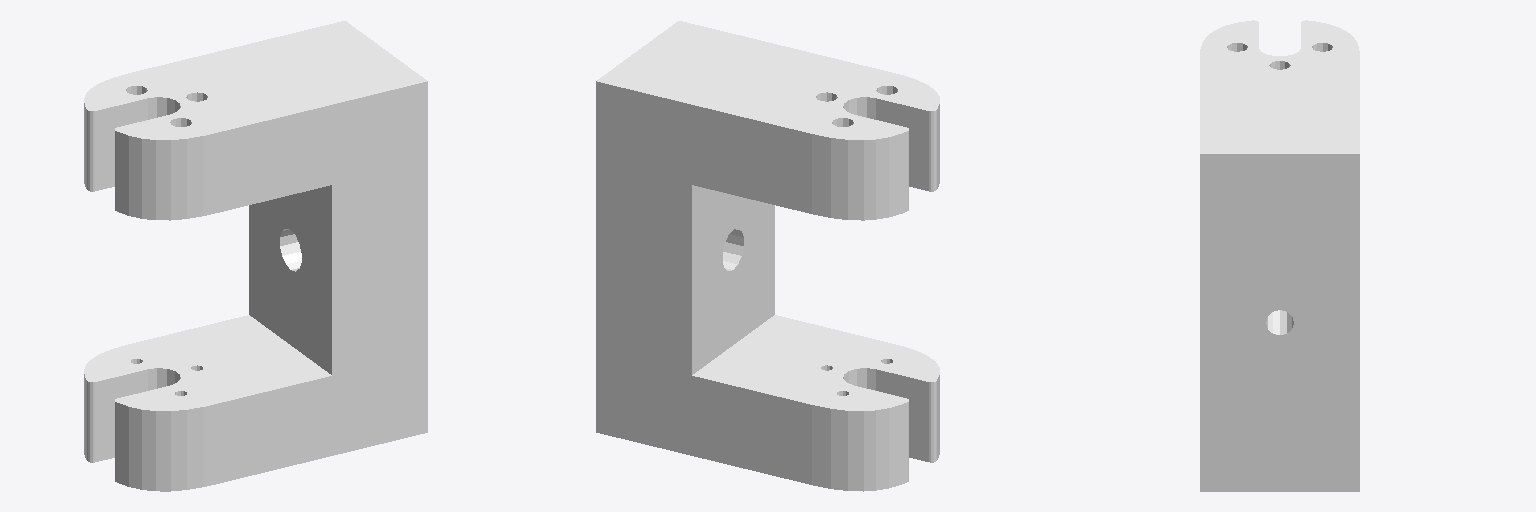
The robot description file, URDF, robot "robot_arm_description":
<?xml version="1.0" encoding="utf-8"?>
<robot name="robot_arm_description">

  <!-- base_link -->
  <link name="base_link">
    <visual>
      <origin xyz="0 0 0" rpy="0 0 0"/>
      <geometry>
        <mesh filename="package://robot_arm_description/meshes/base_link.dae" scale="0.001 0.001 0.001"/>
      </geometry>
    </visual>
  </link>

  <!-- one_Link -->
  <link name="one_Link">
    <visual>
      <origin xyz="0 0 0" rpy="0 0 0"/>
      <geometry>
        <mesh filename="package://robot_arm_description/meshes/one_Link.dae" scale="0.001 0.001 0.001"/>
      </geometry>
    </visual>
  </link>

  <!-- joint1: base_link → one_Link -->
  <joint name="joint1" type="continuous">
    <parent link="base_link"/>
    <child link="one_Link"/>
    <origin xyz="0 0 0.05" rpy="0 0 0"/>
    <axis xyz="0 0 1"/>
  </joint>

  <!-- two_Link -->
  <link name="two_Link">
    <visual>
      <origin xyz="0 0 0" rpy="0 0 0"/>
      <geometry>
        <mesh filename="package://robot_arm_description/meshes/two_Link.dae" scale="0.001 0.001 0.001"/>
      </geometry>
    </visual>
  </link>

  <!-- joint2: one_Link → two_Link -->
  <joint name="joint2" type="continuous">
    <parent link="one_Link"/>
    <child link="two_Link"/>
    <origin xyz="0 0 0.1" rpy="0 0 0"/>
    <axis xyz="0 0 1"/>
  </joint>

</robot>

--- Render facts (derived) ---
Views: 3 orthographic renders of the robot side by side, from view 1: azimuth 30°, elevation 25°; view 2: azimuth 150°, elevation 25°; view 3: azimuth 270°, elevation 25°.
Model robot_arm_description with 3 links and 2 joints (2 continuous), rooted at base_link, posed all joints at 0.
Visible links, largest first — view 1: base_link; view 2: base_link; view 3: base_link.
Link boxes in pixels (<box>): base_link: <box>84,21,427,491</box>; base_link: <box>596,21,939,491</box>; base_link: <box>1200,20,1359,491</box>.
Bounding box of the posed robot: 0.0001 × 0 × 0.0001 m (x, y, z).
1 mesh visuals loaded from 3 distinct referenced files (1 Collada DAE); not drawn: 2 (reference not matched to a file when rendering).